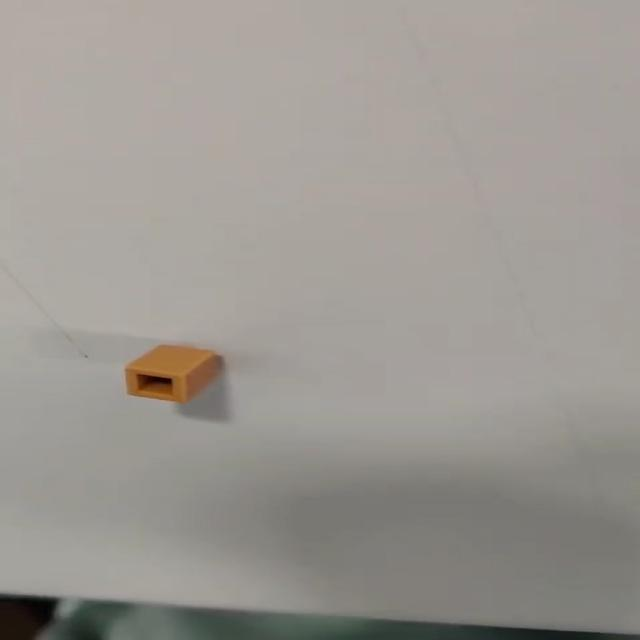C1x1x1: (122, 342, 221, 403)
